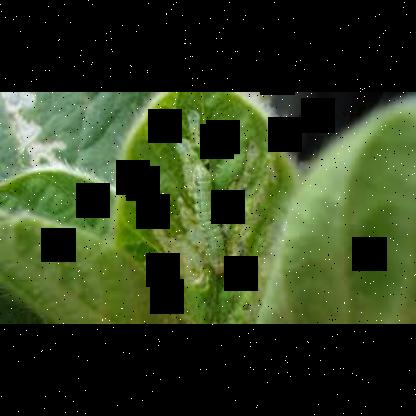oruga: (190, 160, 232, 274)
